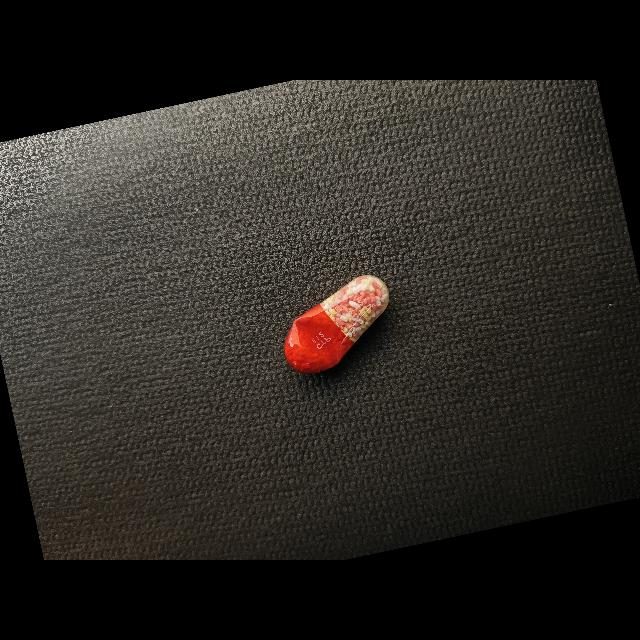Defective Capsule: (284, 275, 389, 374)
